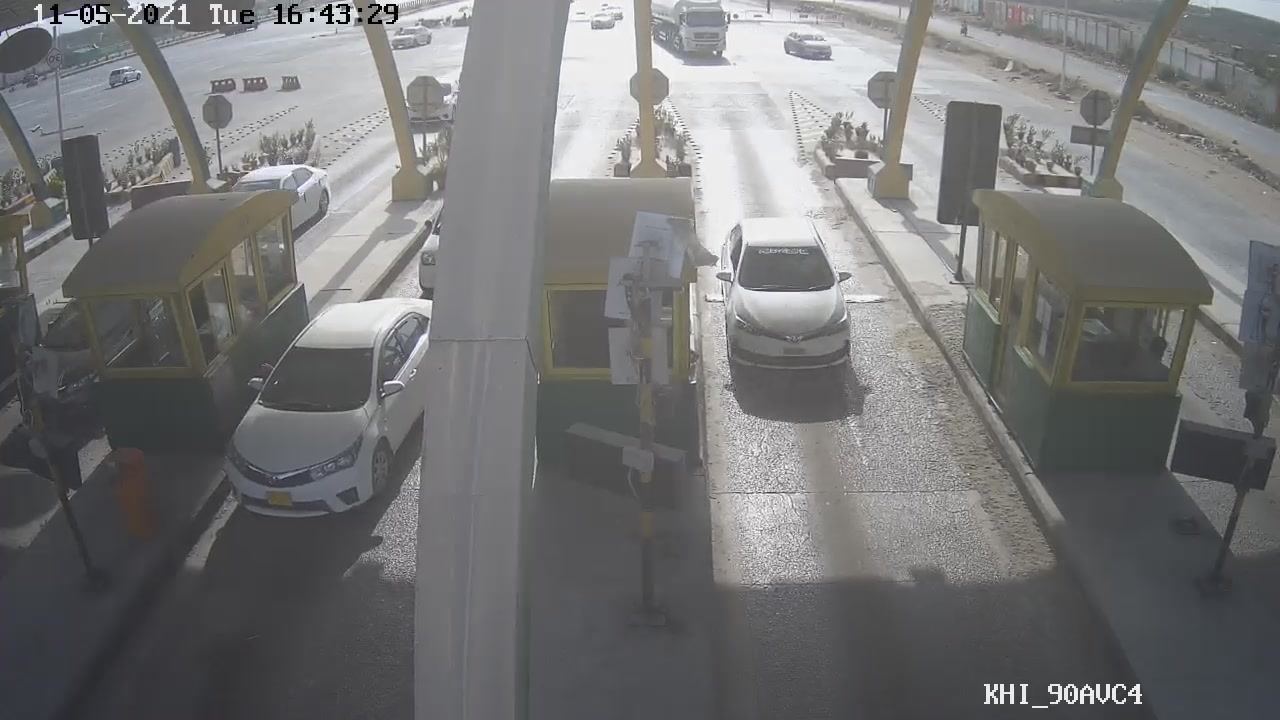F1: (711, 209, 863, 381)
